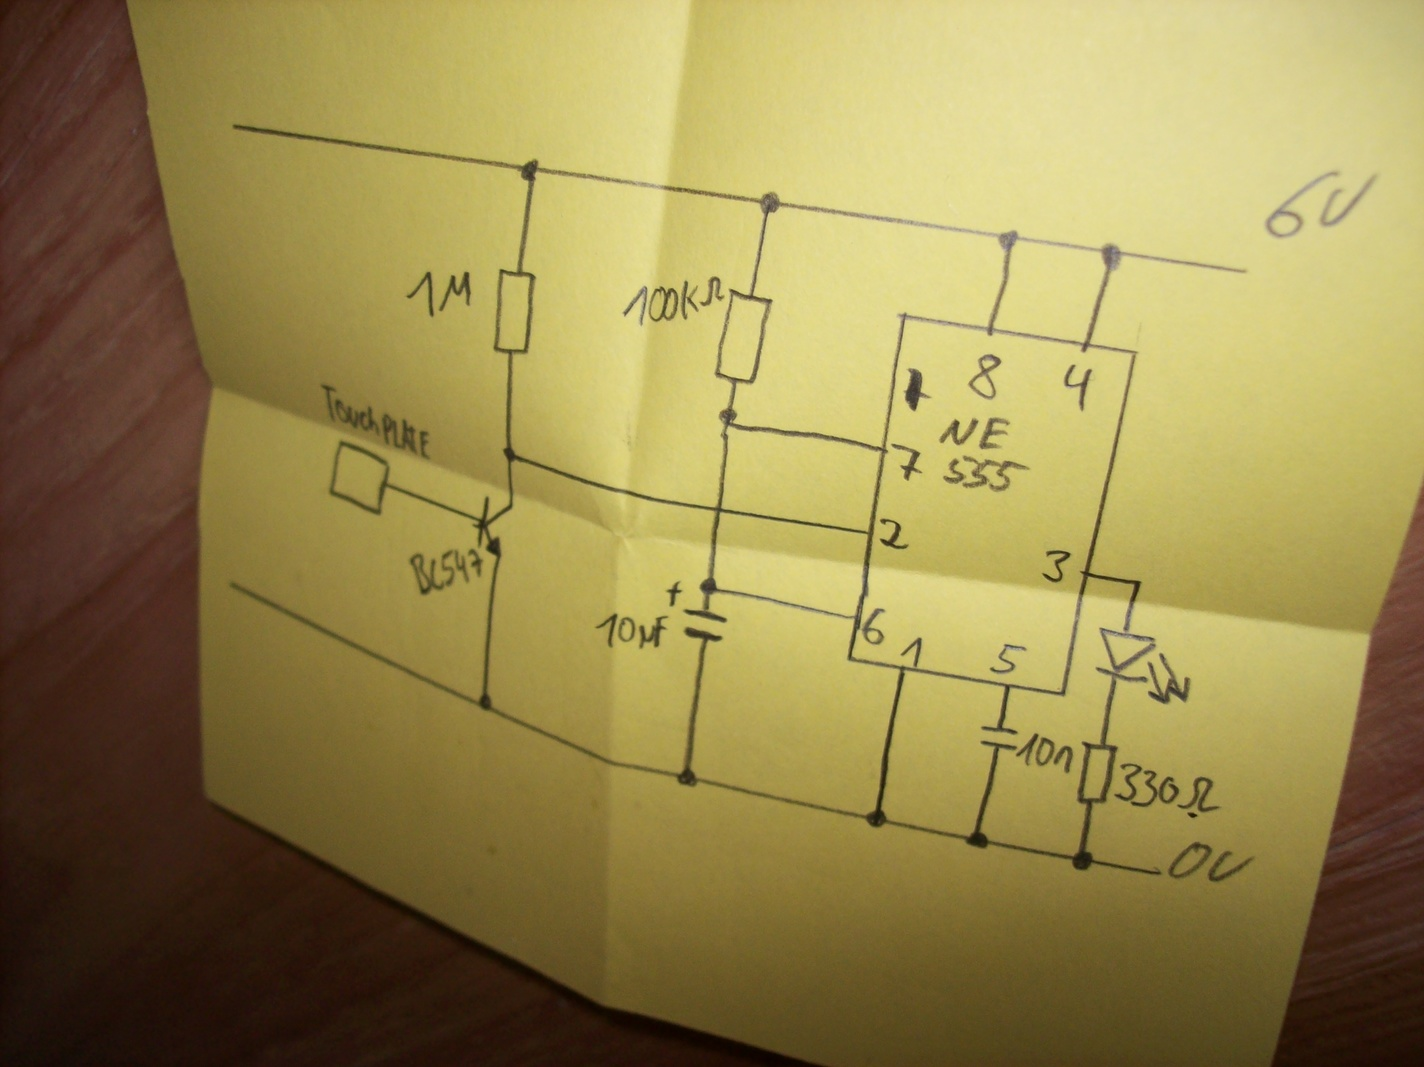capacitor.polarized: (666, 579, 729, 644)
capacitor.unpolarized: (978, 722, 1020, 755)
crossover: (710, 500, 729, 518)
diode.light_emitting: (1093, 627, 1193, 706)
integrated_cricuit.ne555: (845, 309, 1141, 698)
junction: (1098, 241, 1126, 272), (716, 407, 739, 438), (518, 157, 543, 184), (758, 191, 783, 219), (863, 808, 890, 831), (964, 829, 992, 851), (1070, 848, 1093, 872), (674, 767, 698, 790), (997, 228, 1021, 251), (698, 575, 720, 596), (1128, 574, 1147, 595), (476, 692, 494, 713), (502, 446, 518, 463)
resistor: (713, 287, 775, 386), (491, 267, 539, 358), (1074, 737, 1119, 806)
terminal: (326, 439, 391, 518), (1234, 262, 1253, 280), (226, 118, 244, 134), (1150, 864, 1165, 880), (222, 578, 239, 593)
text: (319, 382, 432, 461), (1262, 167, 1383, 240), (936, 415, 1031, 494), (1113, 761, 1222, 814), (621, 275, 726, 328), (1166, 839, 1255, 884), (408, 547, 485, 597), (403, 268, 475, 321), (594, 612, 669, 651), (1016, 731, 1074, 774), (965, 352, 1003, 401), (1061, 362, 1095, 412), (890, 442, 924, 482), (989, 642, 1029, 674), (1040, 548, 1073, 584), (860, 606, 888, 646), (878, 518, 910, 551), (899, 635, 925, 668)
transistor: (471, 495, 516, 558)
